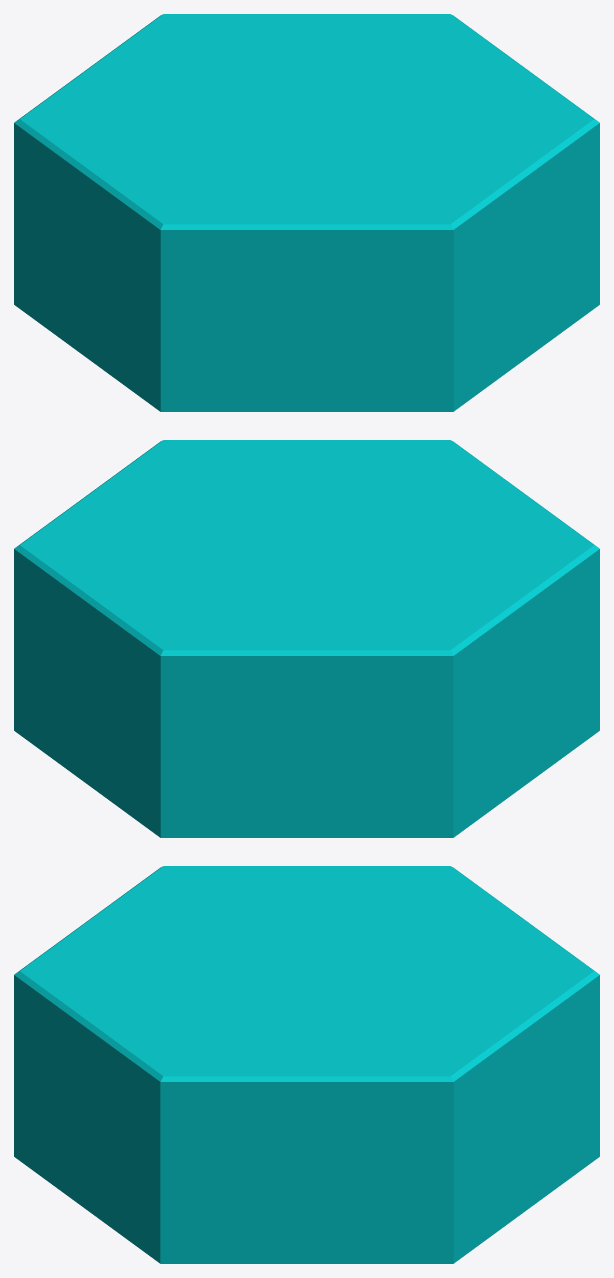
The model's file is RPG_Tiles_Hex_Water_Raised_01.FBX.
3 views of the same model, one above another, from view 1: azimuth 30°, elevation 25°; view 2: azimuth 150°, elevation 25°; view 3: azimuth 270°, elevation 25° (orthographic).
Parts seen in each view (by area): view 1: RPG_Tiles_Hex_Water_Raised_01; view 2: RPG_Tiles_Hex_Water_Raised_01; view 3: RPG_Tiles_Hex_Water_Raised_01.
Boxes of the visible parts, x1,y1,x2,y2 form: RPG_Tiles_Hex_Water_Raised_01: (14, 14, 599, 411); RPG_Tiles_Hex_Water_Raised_01: (14, 440, 599, 837); RPG_Tiles_Hex_Water_Raised_01: (14, 866, 599, 1263).
Size of the model in its own units: 3000 by 1210 by 3464.
